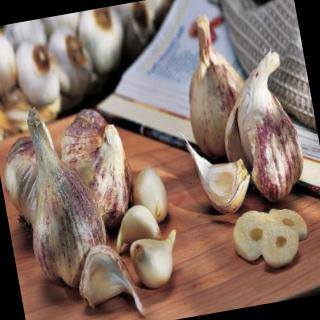Bawang Putih: (193, 145, 257, 222), (129, 230, 187, 293), (129, 163, 174, 232), (111, 202, 165, 258)
